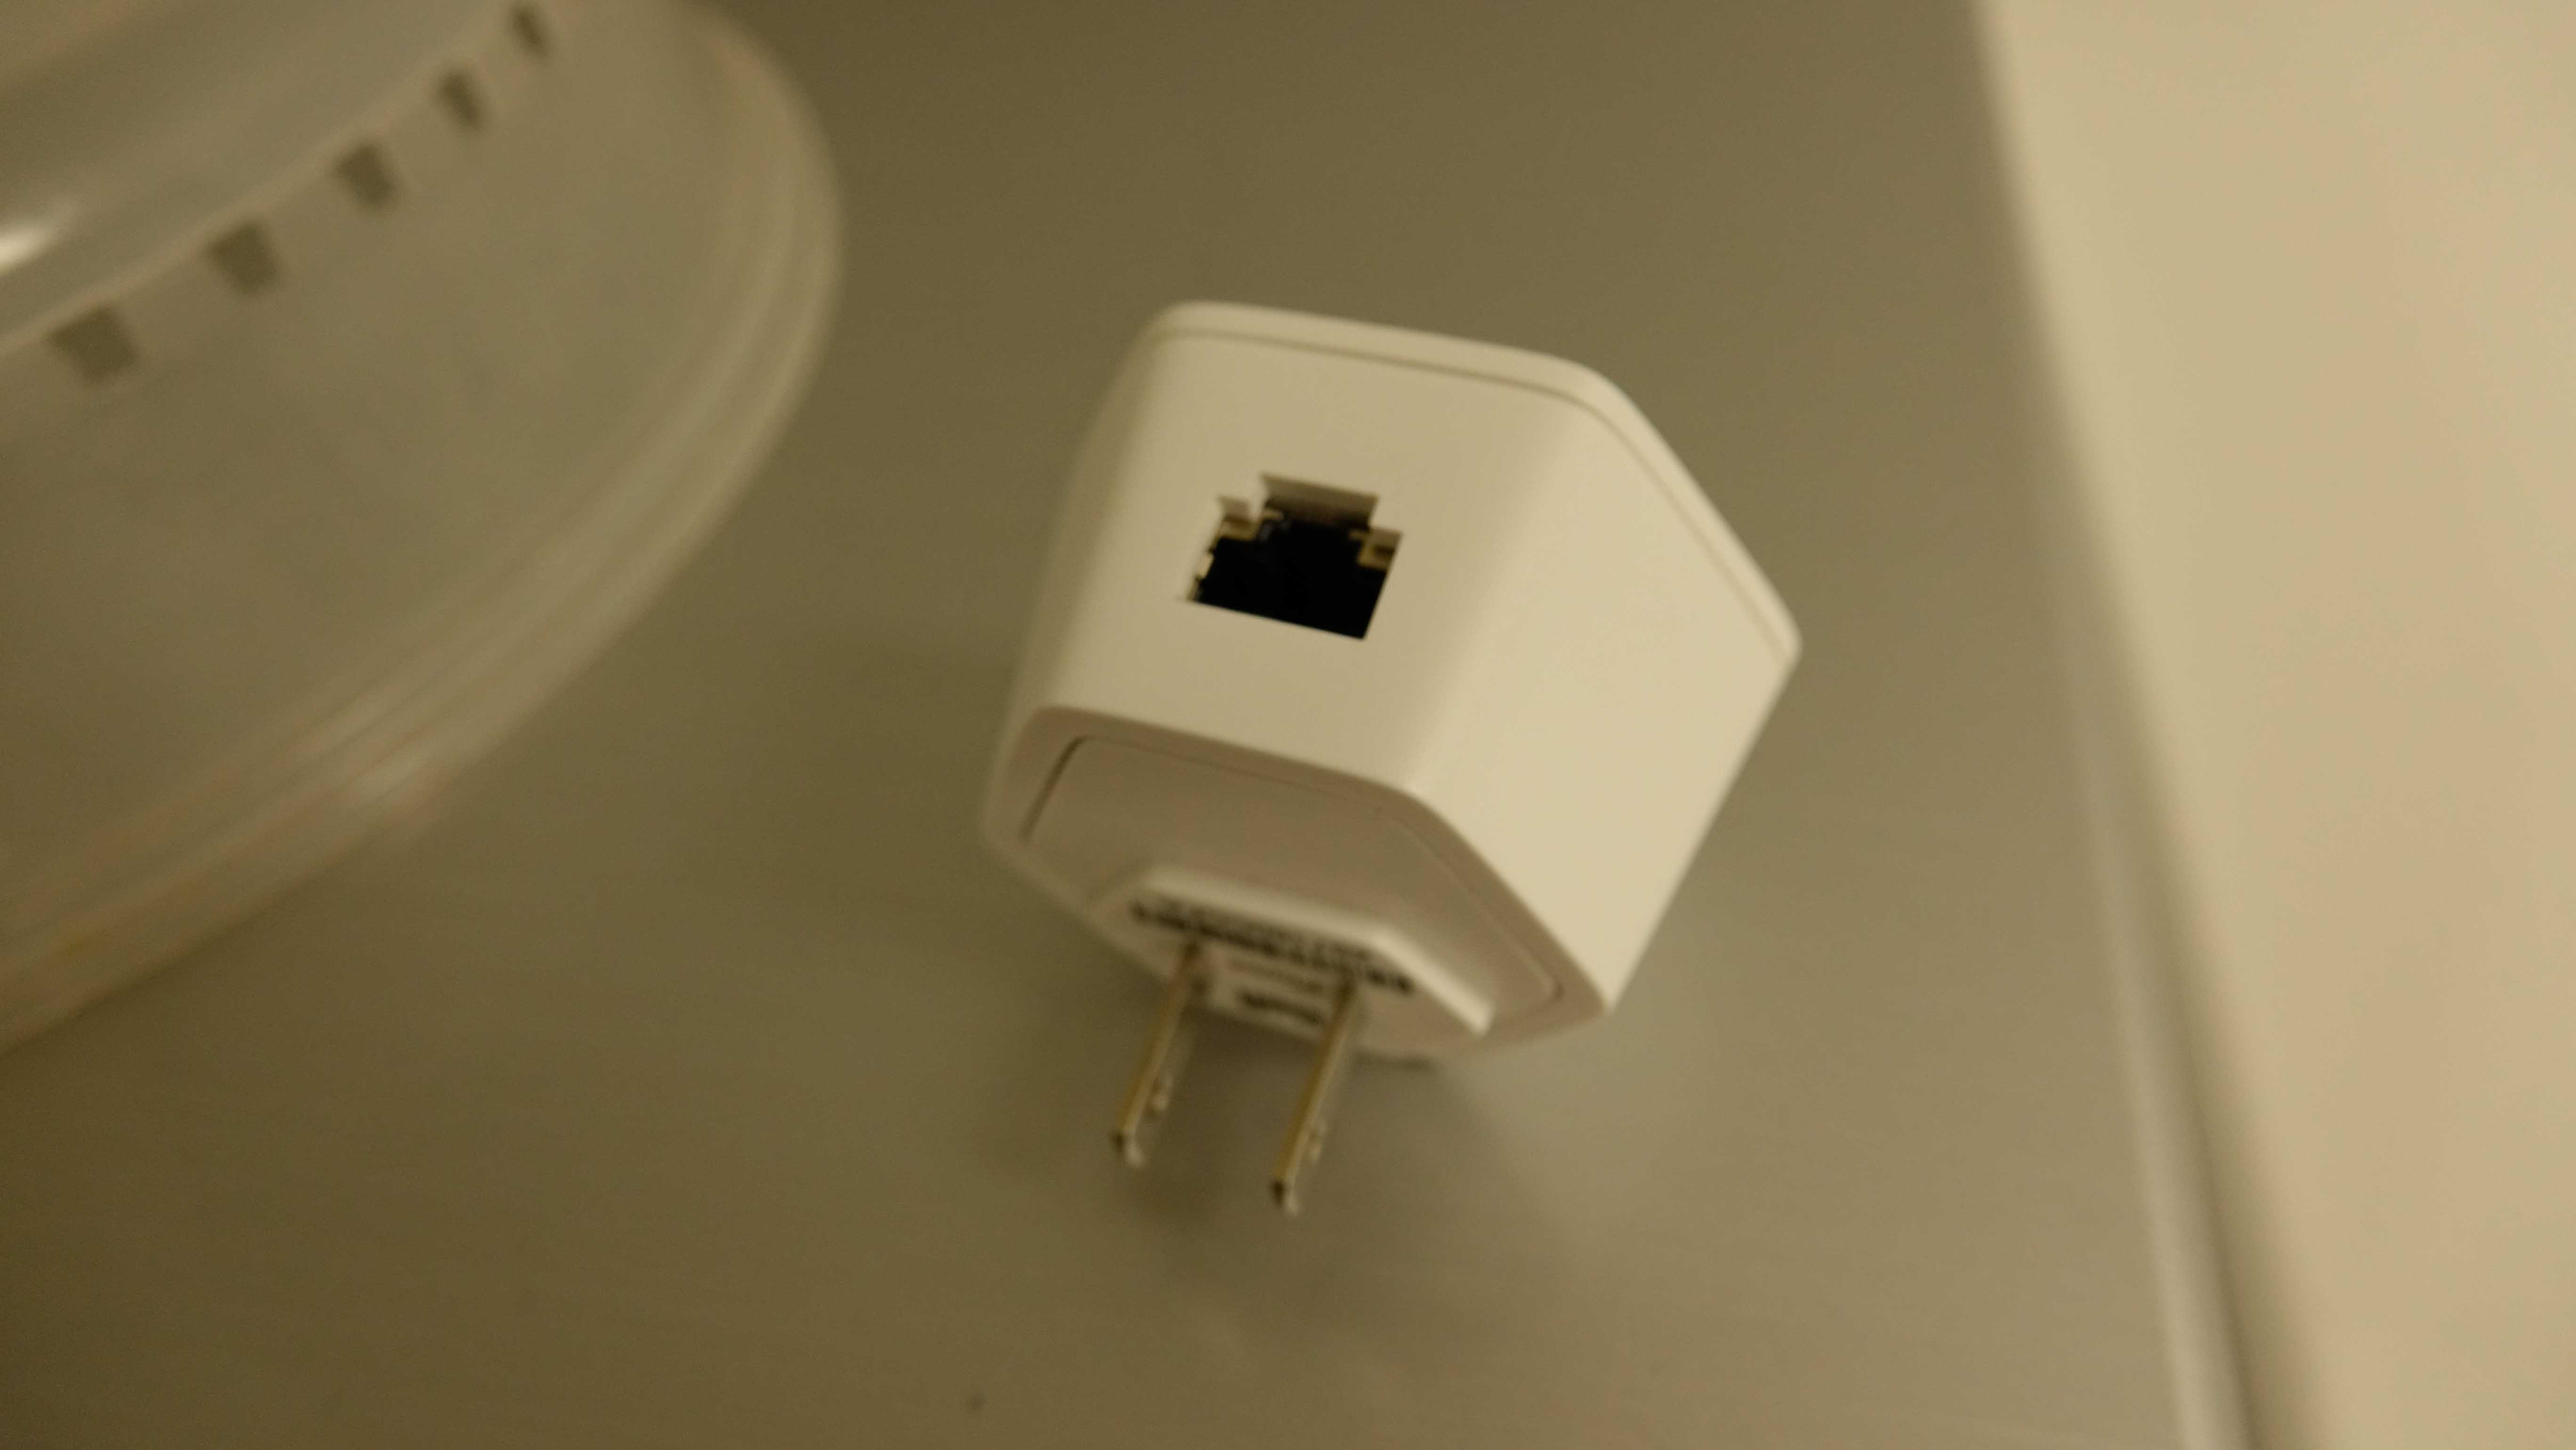pod: (947, 281, 1826, 1227)
